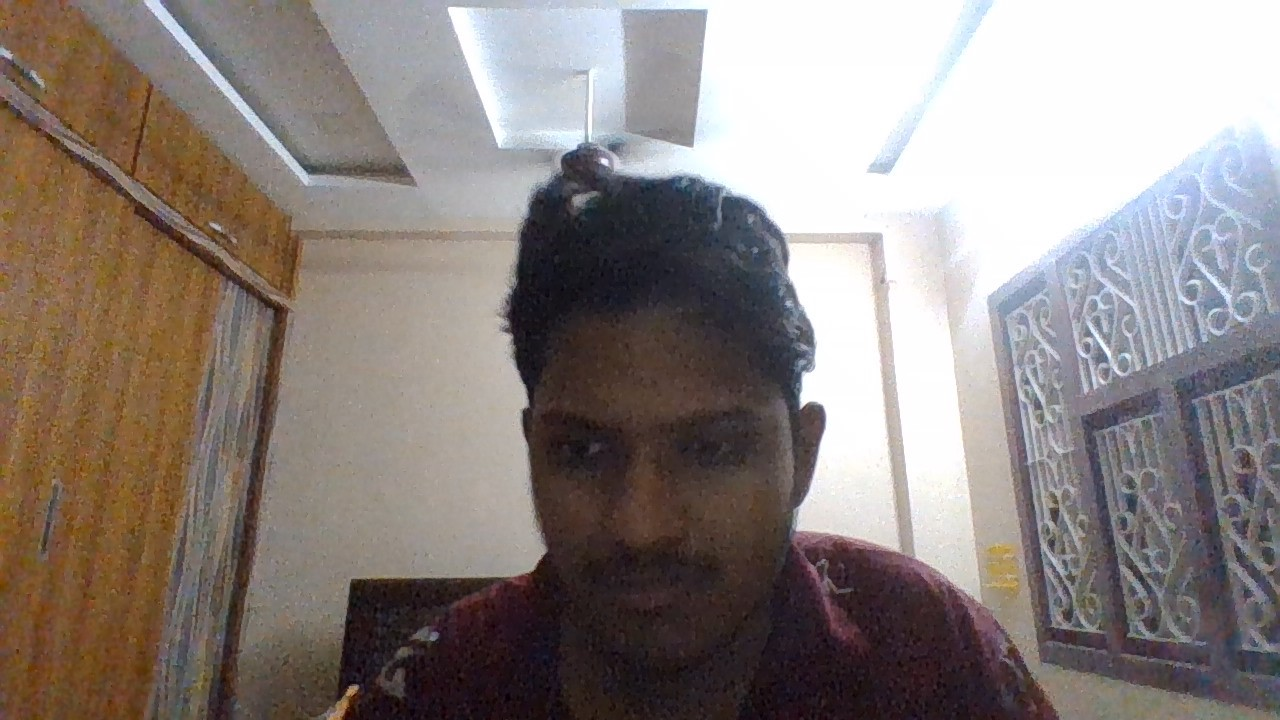person: (372, 67, 941, 697)
